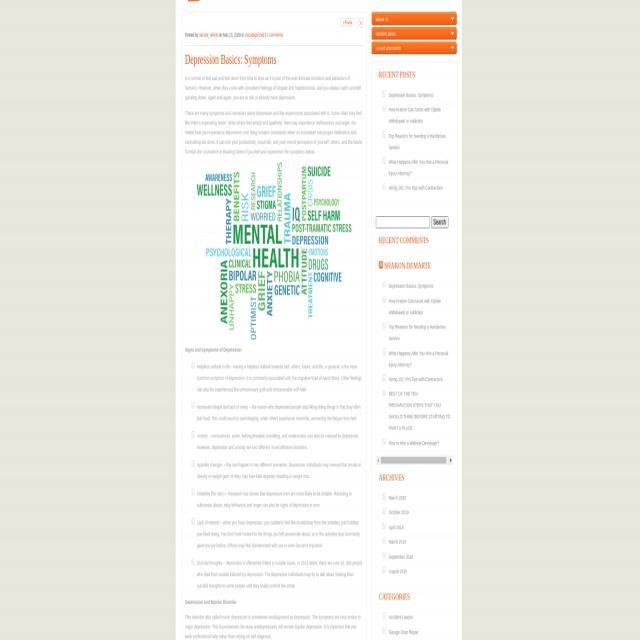button: (197, 163, 351, 341), (372, 28, 462, 41), (372, 14, 462, 26), (372, 43, 462, 55), (340, 20, 355, 28), (358, 20, 364, 29), (379, 262, 383, 270)
field: (376, 217, 430, 229), (431, 217, 448, 229)
